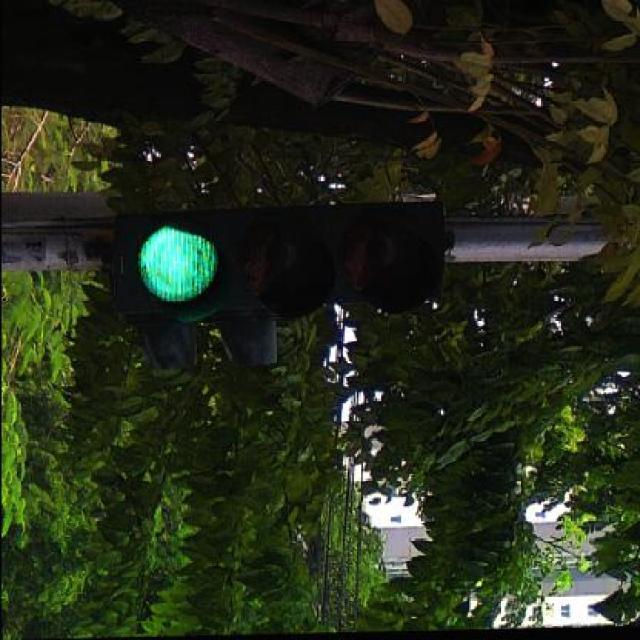traffic light: (109, 200, 446, 373)
